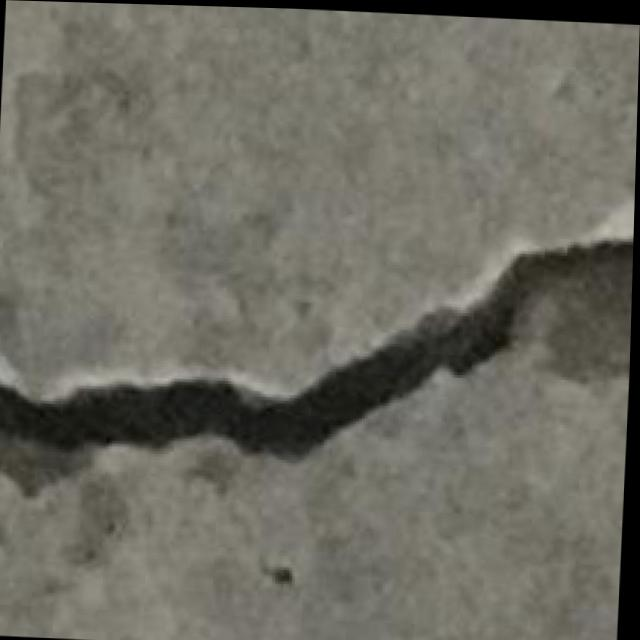Crack: (0, 208, 634, 519)
